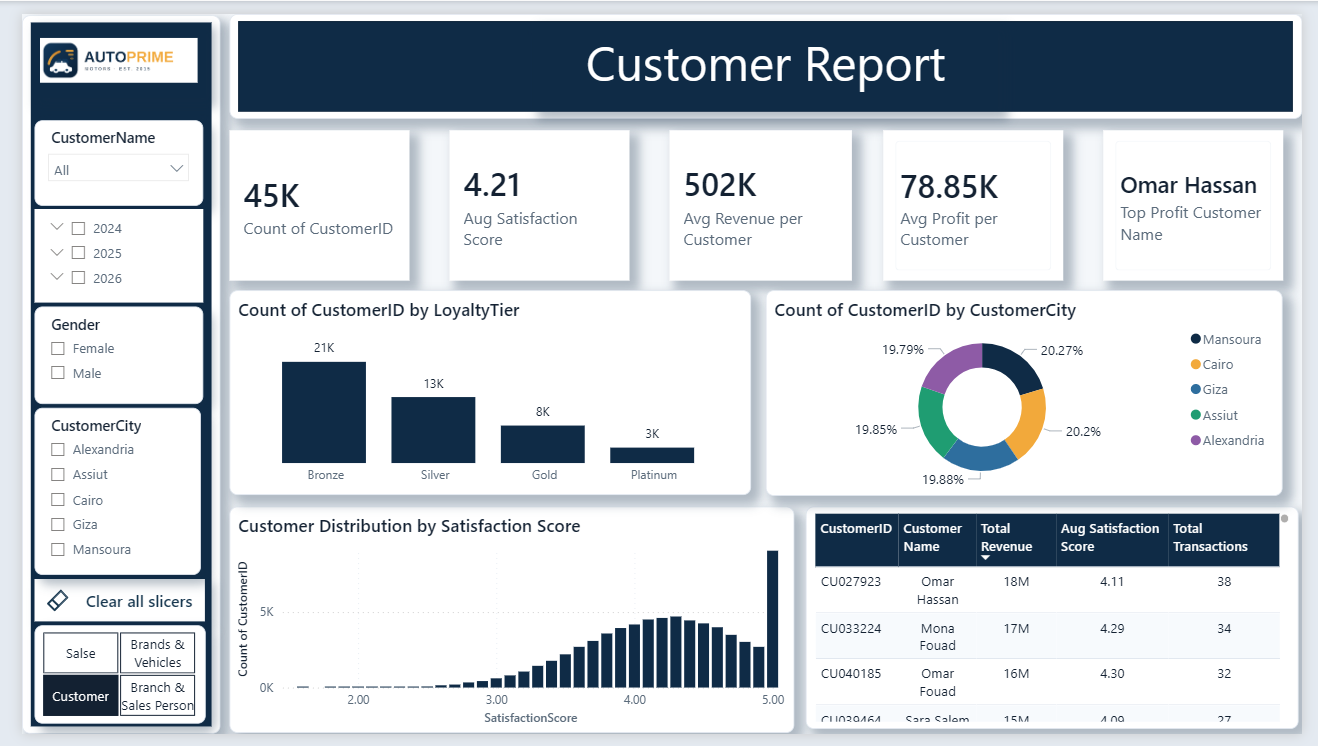

This screenshot's page, from the dashboard's own definition file:
{"tool":"powerbi","page":{"name":"Customer","canvas":[1280,720],"ordinal":2},"visuals":[{"type":"shape","box":[0,1.2,198.8,718.8],"z":0},{"type":"shape","box":[207.5,0,1072.5,105],"z":1000},{"type":"image","box":[10,8.8,173.8,75],"z":2000},{"type":"textbox","box":[511.2,8.8,465,87.5],"z":3000},{"type":"columnChart","title":"Customer Distribution by Satisfaction Score","fields":{"Y":["CountNonNull(Fact_Sales.CustomerID)"],"Category":["Fact_Sales.SatisfactionScore"]},"box":[207.5,492.5,565,226.2],"z":4000},{"type":"cardVisual","fields":{"Data":["Measure.Aug Satisfaction Score"]},"box":[427.5,116.2,180,150],"z":5000},{"type":"cardVisual","fields":{"Data":["CountNonNull(Dim_Customer.CustomerID)"]},"box":[207.5,116.2,180,150],"z":6000},{"type":"cardVisual","fields":{"Data":["Measure.Avg Revenue per Customer"]},"box":[647.5,116.2,182.5,150],"z":7000},{"type":"cardVisual","fields":{"Data":["Measure.Top Profit Customer Name"]},"box":[1081.2,116.2,180,150],"z":8000},{"type":"cardVisual","fields":{"Data":["Measure.Avg Profit per Customer"]},"box":[861.2,116.2,180,150],"z":9000},{"type":"tableEx","fields":{"Values":["Dim_Customer.CustomerID","Dim_Customer.CustomerName","Measure.Total Revenue","Measure.Aug Satisfaction Score","Measure.Total Transactions"]},"box":[783.8,492.5,492.5,222.5],"z":10000},{"type":"clusteredColumnChart","fields":{"Category":["Dim_Customer.LoyaltyTier"],"Y":["CountNonNull(Dim_Customer.CustomerID)"]},"box":[207.5,276.2,521.2,205],"z":11000},{"type":"donutChart","fields":{"Y":["CountNonNull(Fact_Sales.CustomerID)"],"Category":["Dim_Customer.CustomerCity"]},"box":[744.3,275.7,517.1,205.7],"z":12000},{"type":"slicer","fields":{"Values":["Dim_Customer.CustomerName"]},"box":[12.5,105.7,168.6,85.7],"z":13000},{"type":"slicer","fields":{"Values":["Dim_Customer.Gender"]},"box":[12.5,292.6,168.8,97.5],"z":14000},{"type":"slicer","fields":{"Values":["Dim_Date.Year","Dim_Date.MonthName"]},"box":[12.5,195.1,168.8,93.8],"z":15000},{"type":"actionButton","box":[12.5,565,170,42.5],"z":16000},{"type":"slicer","fields":{"Values":["Dim_Customer.CustomerCity"]},"box":[12.5,393.8,166.2,167.5],"z":17000},{"type":"pageNavigator","box":[12.5,611.2,171.2,98.8],"z":18000}]}

Visuals, with their boxes in screenshot pixels (x1, y1, x2, y2), scaled from the page's 1280x720 canvas onto the 1318x746 screenshot:
shape: <region>0, 1, 205, 745</region>
shape: <region>214, 0, 1317, 109</region>
image: <region>10, 9, 189, 87</region>
textbox: <region>526, 9, 1005, 100</region>
"Customer Distribution by Satisfaction Score" columnChart: <region>214, 510, 795, 745</region>
cardVisual - Measure.Aug Satisfaction Score: <region>440, 120, 626, 276</region>
cardVisual - CountNonNull(Dim_Customer.CustomerID): <region>214, 120, 399, 276</region>
cardVisual - Measure.Avg Revenue per Customer: <region>667, 120, 855, 276</region>
cardVisual - Measure.Top Profit Customer Name: <region>1113, 120, 1299, 276</region>
cardVisual - Measure.Avg Profit per Customer: <region>887, 120, 1072, 276</region>
tableEx - Dim_Customer.CustomerID x Dim_Customer.CustomerName: <region>807, 510, 1314, 741</region>
clusteredColumnChart - Dim_Customer.LoyaltyTier x CountNonNull(Dim_Customer.CustomerID): <region>214, 286, 750, 499</region>
donutChart - CountNonNull(Fact_Sales.CustomerID) x Dim_Customer.CustomerCity: <region>766, 286, 1299, 499</region>
slicer - Dim_Customer.CustomerName: <region>13, 110, 186, 198</region>
slicer - Dim_Customer.Gender: <region>13, 303, 187, 404</region>
slicer - Dim_Date.Year x Dim_Date.MonthName: <region>13, 202, 187, 299</region>
actionButton: <region>13, 585, 188, 629</region>
slicer - Dim_Customer.CustomerCity: <region>13, 408, 184, 582</region>
pageNavigator: <region>13, 633, 189, 736</region>
